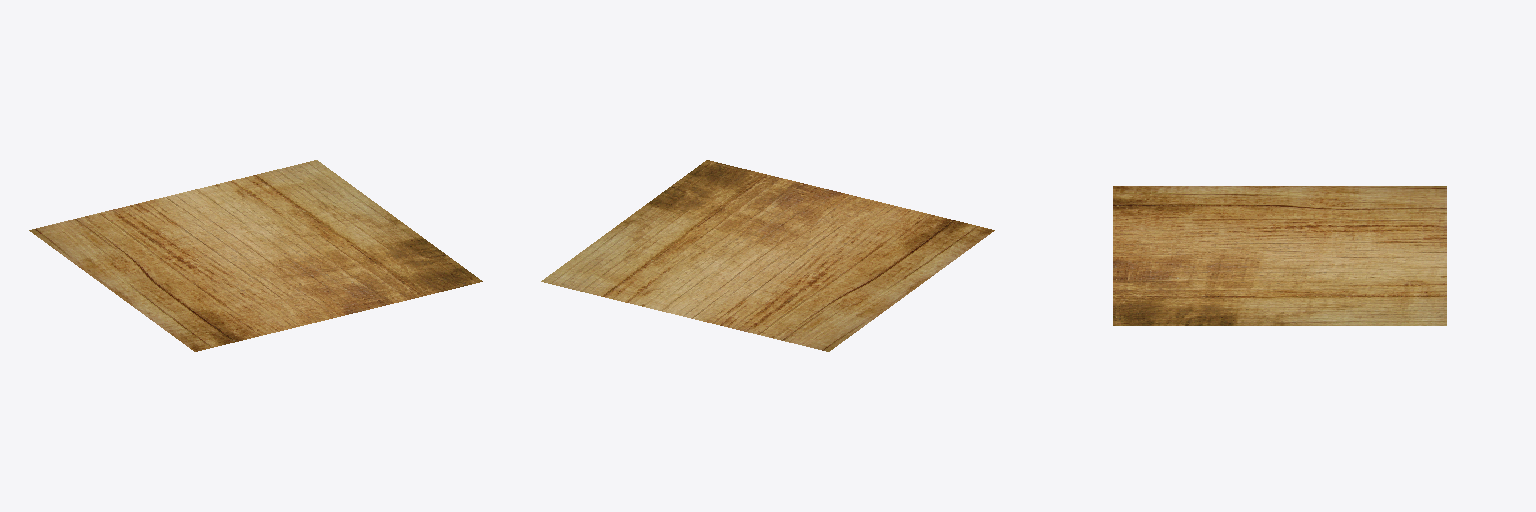
3 views of the same model, side by side, from view 1: azimuth 30°, elevation 25°; view 2: azimuth 150°, elevation 25°; view 3: azimuth 270°, elevation 25° (orthographic).
Parts seen in each view (by area): view 1: pPlane1; view 2: pPlane1; view 3: pPlane1.
Boxes of the visible parts, x1=… form: pPlane1: x1=29, y1=160, x2=482, y2=351; pPlane1: x1=541, y1=160, x2=994, y2=351; pPlane1: x1=1113, y1=186, x2=1446, y2=325.
Bounding box in the file's own units: 7.96 × 0 × 7.96.
1 materials, 1 textured.